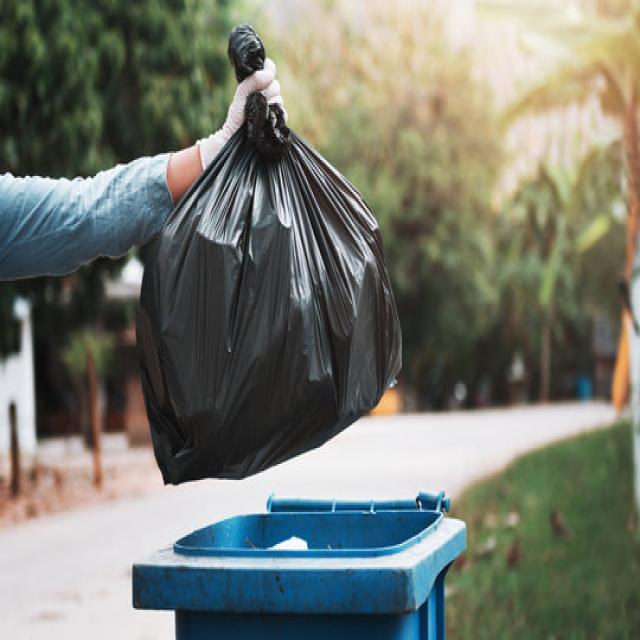trash: (88, 18, 422, 482)
